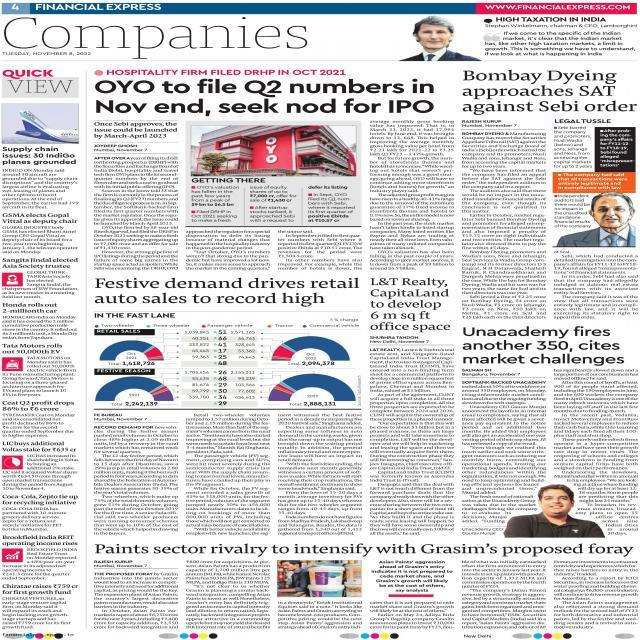Article: (87, 70, 456, 272), (89, 274, 366, 538), (90, 541, 640, 632), (458, 67, 639, 320), (459, 323, 637, 538), (367, 275, 458, 538), (1, 146, 82, 213), (0, 342, 79, 399), (0, 438, 79, 492), (0, 582, 81, 632), (0, 534, 80, 582), (0, 211, 80, 257), (0, 257, 81, 301), (0, 397, 78, 440), (0, 491, 77, 534), (1, 300, 79, 342)
Body: (368, 347, 456, 536), (461, 132, 548, 320), (553, 368, 640, 536), (368, 119, 457, 271), (460, 379, 548, 524), (276, 412, 364, 535), (185, 412, 272, 536), (92, 424, 180, 536), (93, 157, 180, 270), (460, 558, 548, 630), (552, 250, 640, 320), (185, 559, 272, 629), (553, 560, 640, 630), (92, 572, 180, 629), (185, 229, 272, 271), (277, 229, 364, 270), (0, 168, 80, 210), (1, 356, 78, 398), (0, 454, 80, 491), (368, 599, 456, 630), (0, 596, 80, 630), (277, 600, 364, 630), (1, 548, 78, 581), (0, 225, 80, 255), (0, 270, 80, 300), (0, 315, 80, 340), (0, 412, 76, 438), (552, 125, 594, 169), (1, 507, 68, 532), (306, 192, 358, 223), (598, 128, 636, 168), (557, 172, 629, 190), (553, 194, 591, 228), (190, 185, 240, 208), (248, 184, 298, 203), (248, 205, 296, 223), (190, 210, 238, 223)
Date: (0, 51, 95, 56)
Heading: (94, 77, 436, 116), (92, 542, 636, 558), (93, 276, 361, 308), (461, 69, 638, 116), (461, 324, 625, 367), (368, 276, 454, 334), (0, 146, 78, 166), (1, 399, 76, 412), (1, 584, 80, 596), (1, 494, 79, 506), (1, 534, 78, 546), (1, 257, 78, 269), (2, 441, 78, 453), (2, 213, 80, 224), (1, 342, 64, 354), (1, 302, 60, 314)
Highlights: (479, 16, 640, 57), (371, 559, 454, 593), (92, 121, 180, 140), (93, 312, 177, 318)
Image: (94, 322, 362, 408), (192, 126, 356, 176), (398, 15, 476, 61), (278, 560, 362, 597), (1, 104, 78, 144), (591, 191, 638, 246)
Name: (2, 16, 310, 52), (34, 2, 165, 10)
